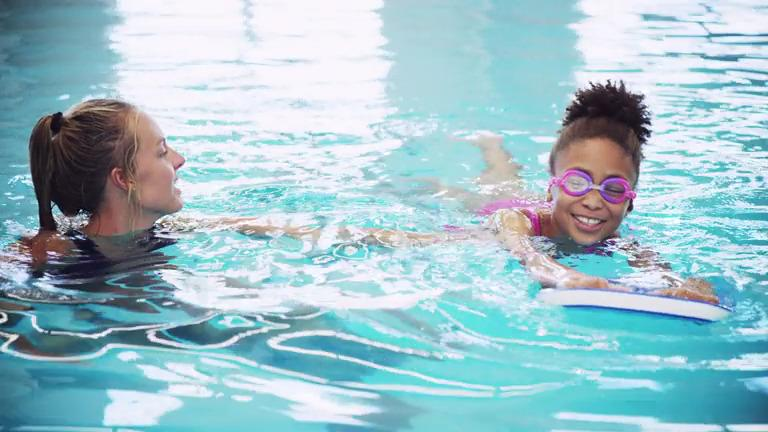Swimming: (309, 54, 768, 338), (4, 47, 358, 283)
